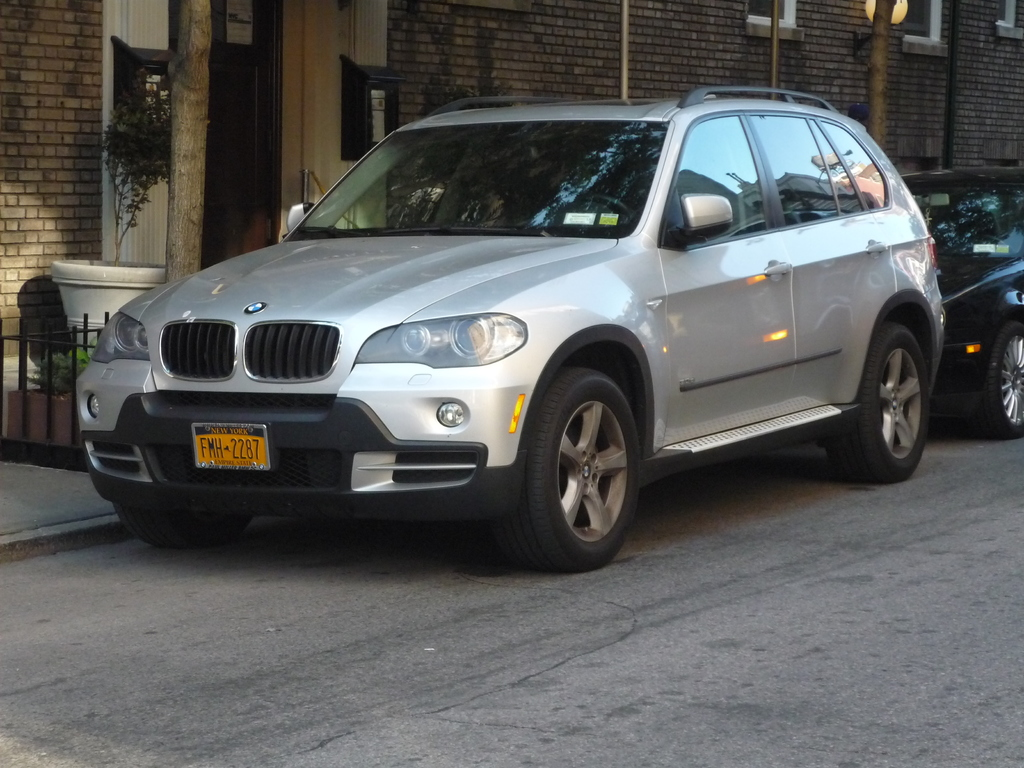license plate: (191, 424, 275, 473)
